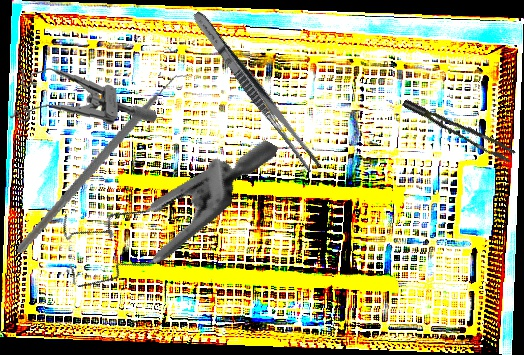Chopper: (16, 51, 196, 278)
Dressing Forceps: (187, 7, 324, 175)
Speculum: (38, 72, 279, 340), (7, 59, 157, 133)
Tissue Forceps: (401, 84, 518, 174)
